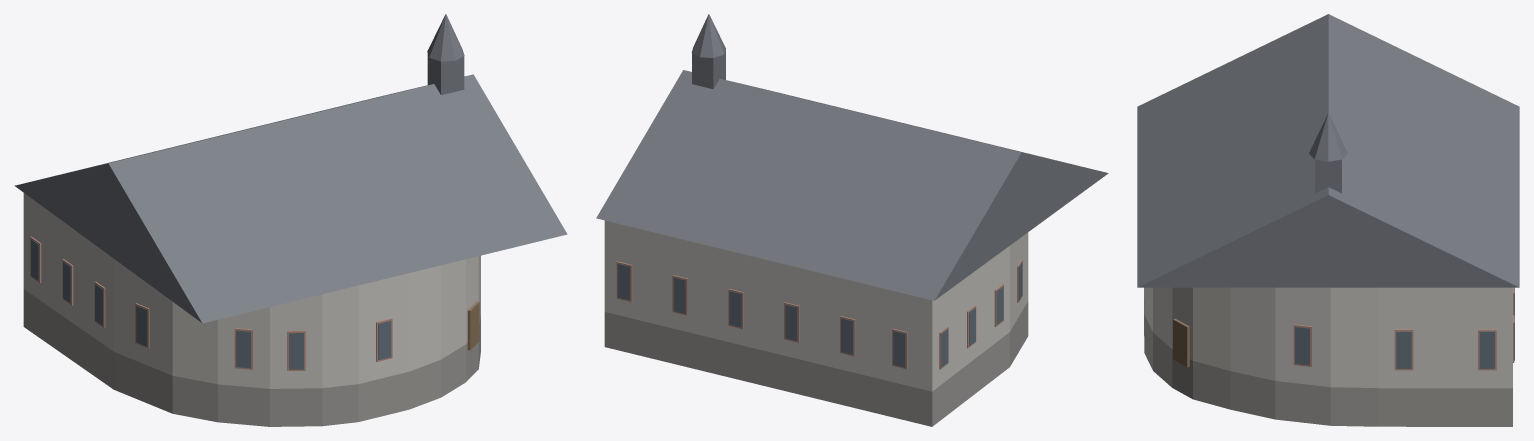
The model's file is landmark-kandern-bfa-kapelle.glb.
The picture shows the model from 3 angles, left to right: view 1: azimuth 30°, elevation 25°; view 2: azimuth 150°, elevation 25°; view 3: azimuth 270°, elevation 25°; orthographic projection. The views are drawn at different scales.
Visible parts, largest first — view 1: building; view 2: building; view 3: building.
Part boxes in pixels (x1=…): building: x1=14, y1=14, x2=567, y2=426; building: x1=596, y1=14, x2=1108, y2=426; building: x1=1137, y1=14, x2=1519, y2=426.
Bounding box in the file's own units: 25.12 × 19.6 × 22.43.
